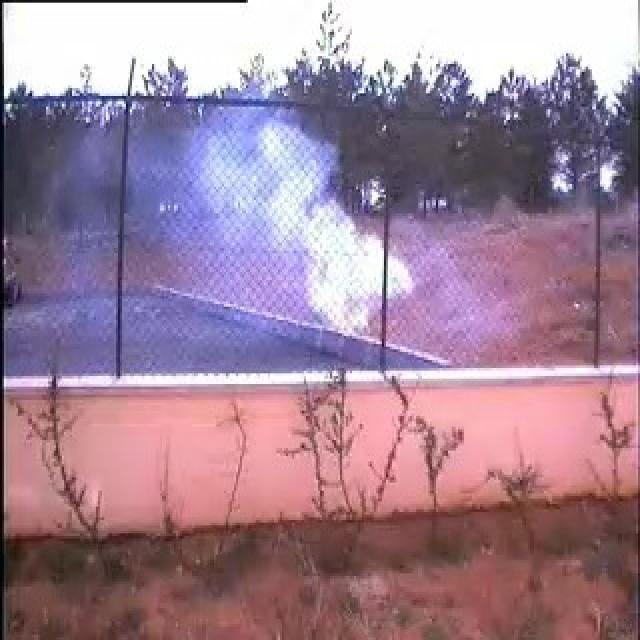Smoke: (124, 106, 414, 379)
